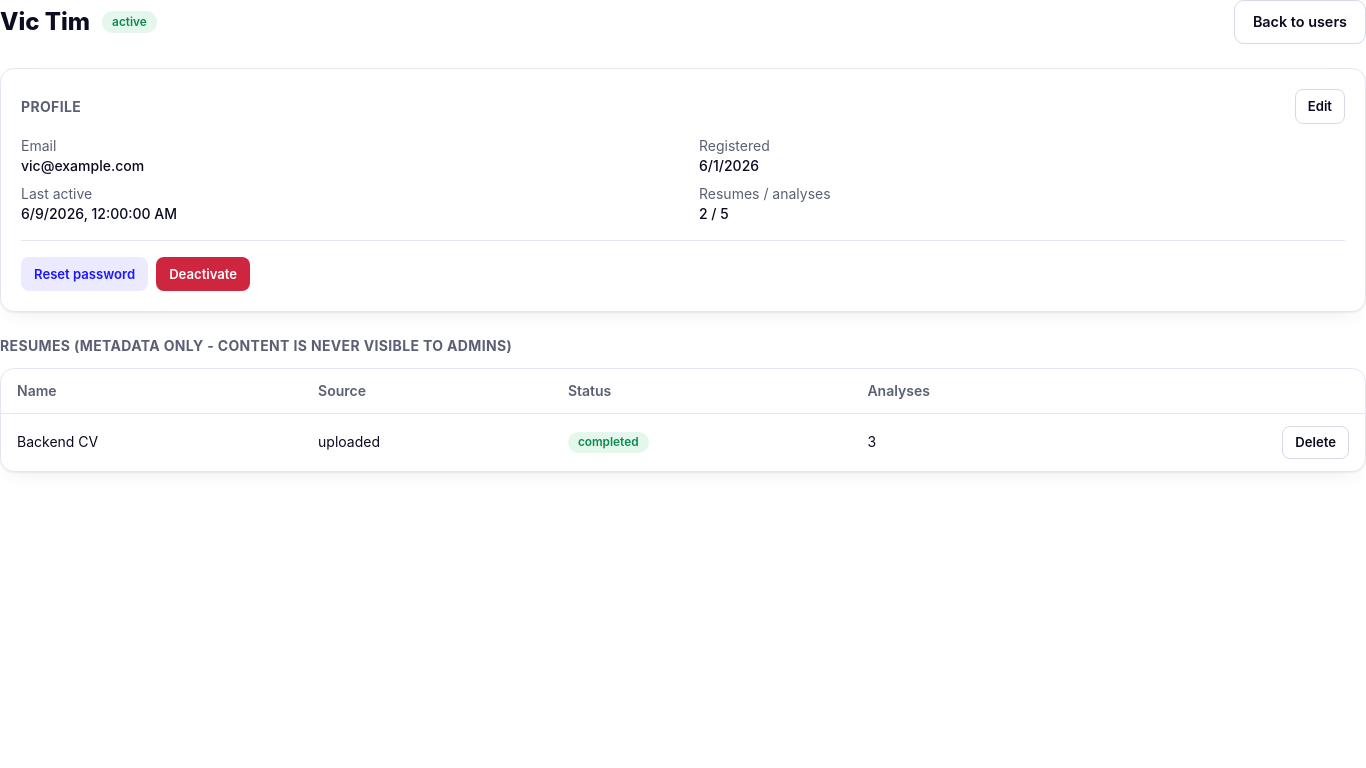
admin user details (issue #79 / 9.2) › resume metadata list shows NO content fields; cascade delete warns
expect the text "Backend CV" is shown: met, box [1,414,302,471]
Click the button "Delete".
click(1316, 442)  # box [1282,426,1349,459]
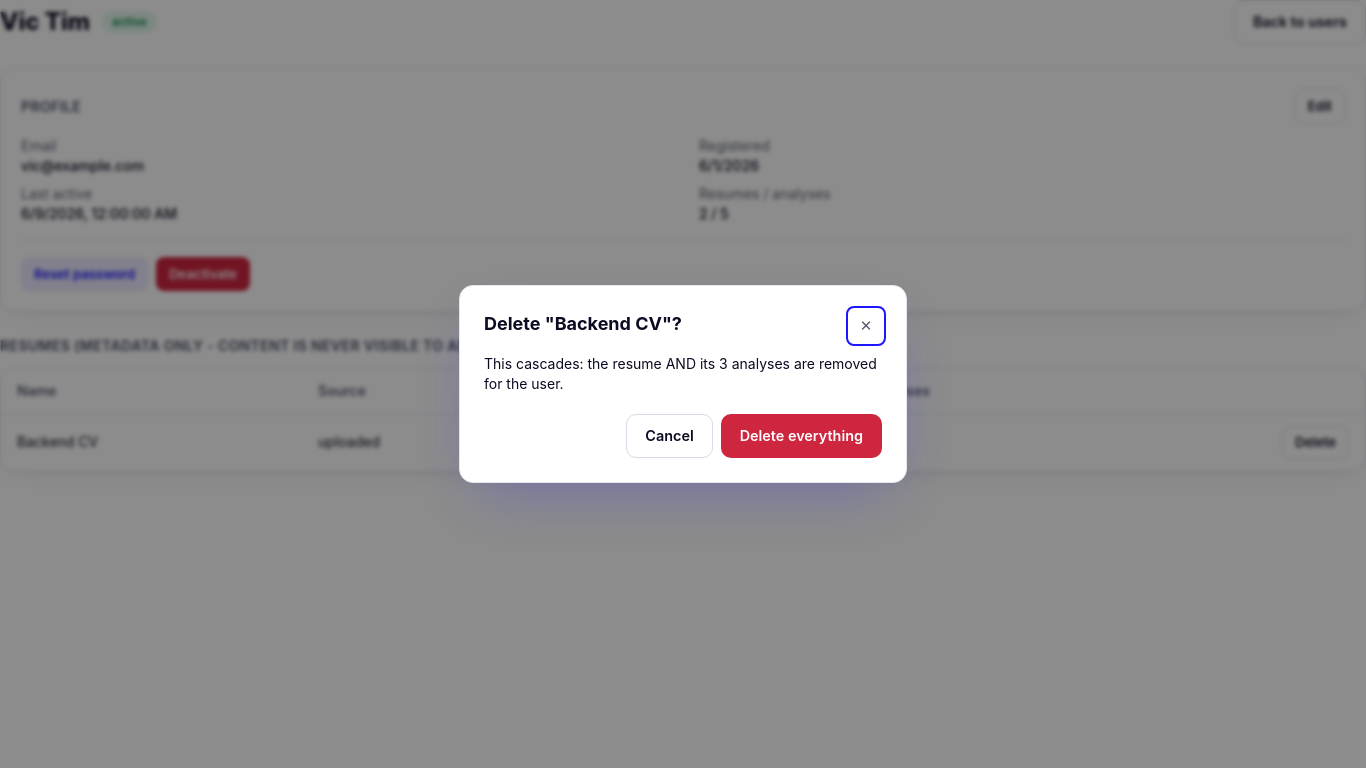
expect the text "cascades" is shown: met, box [484,355,877,392]
Click the button "Delete everything".
click(801, 436)  # box [721,414,882,458]
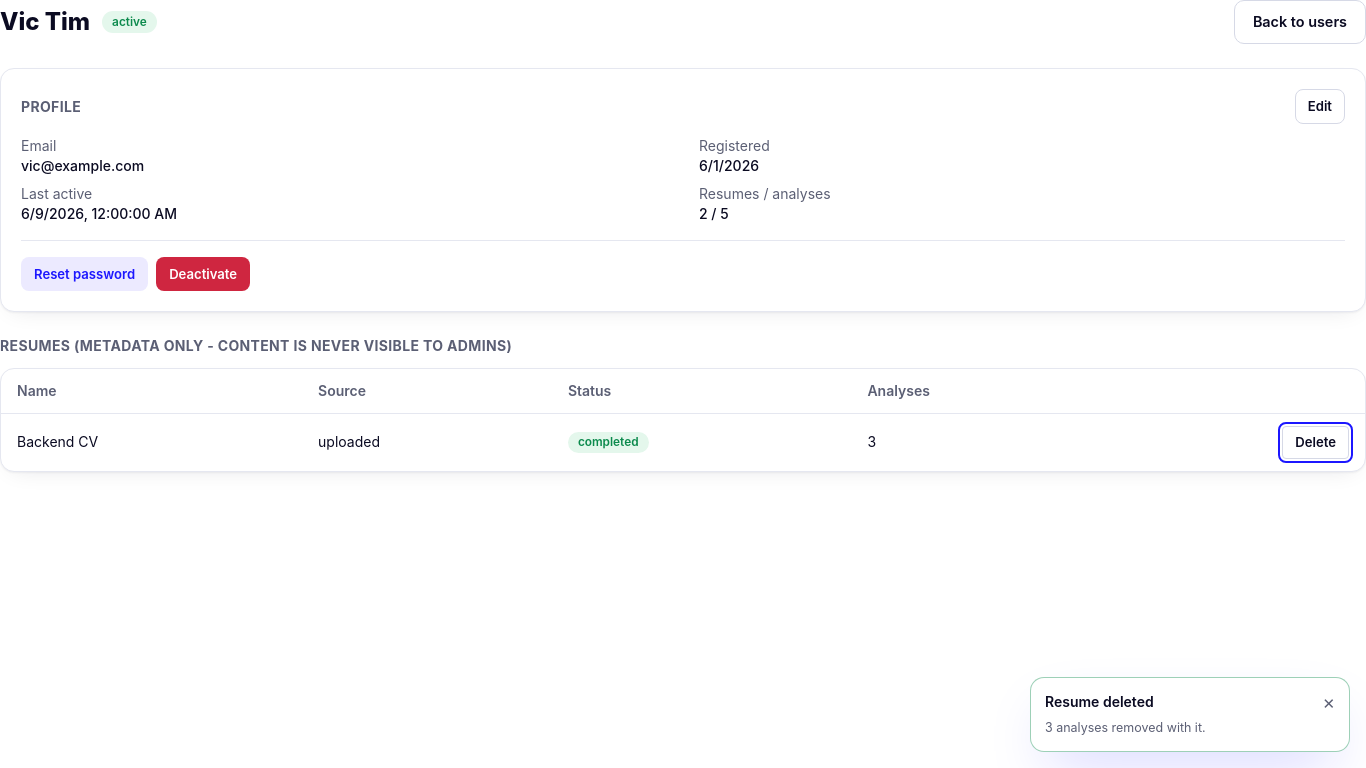
expect the text "3 analyses removed with it." is shown: met, box [1045,720,1206,735]
